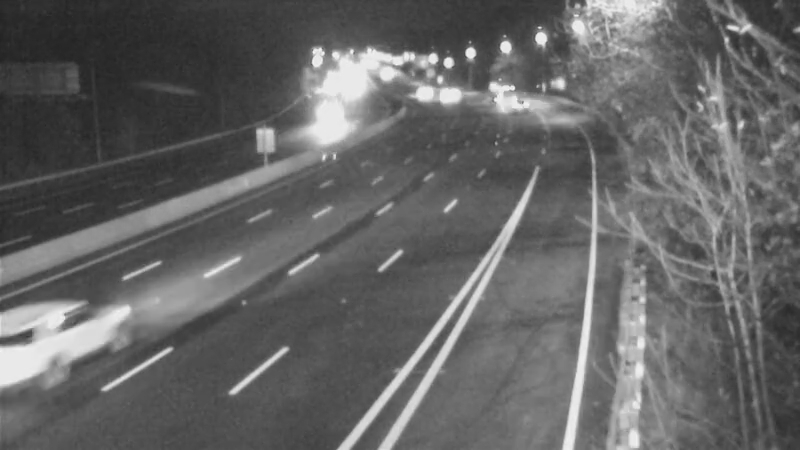vehicle: (1, 287, 110, 397), (467, 65, 517, 115), (394, 68, 444, 118), (425, 66, 475, 116), (491, 77, 541, 127), (305, 87, 355, 137)
